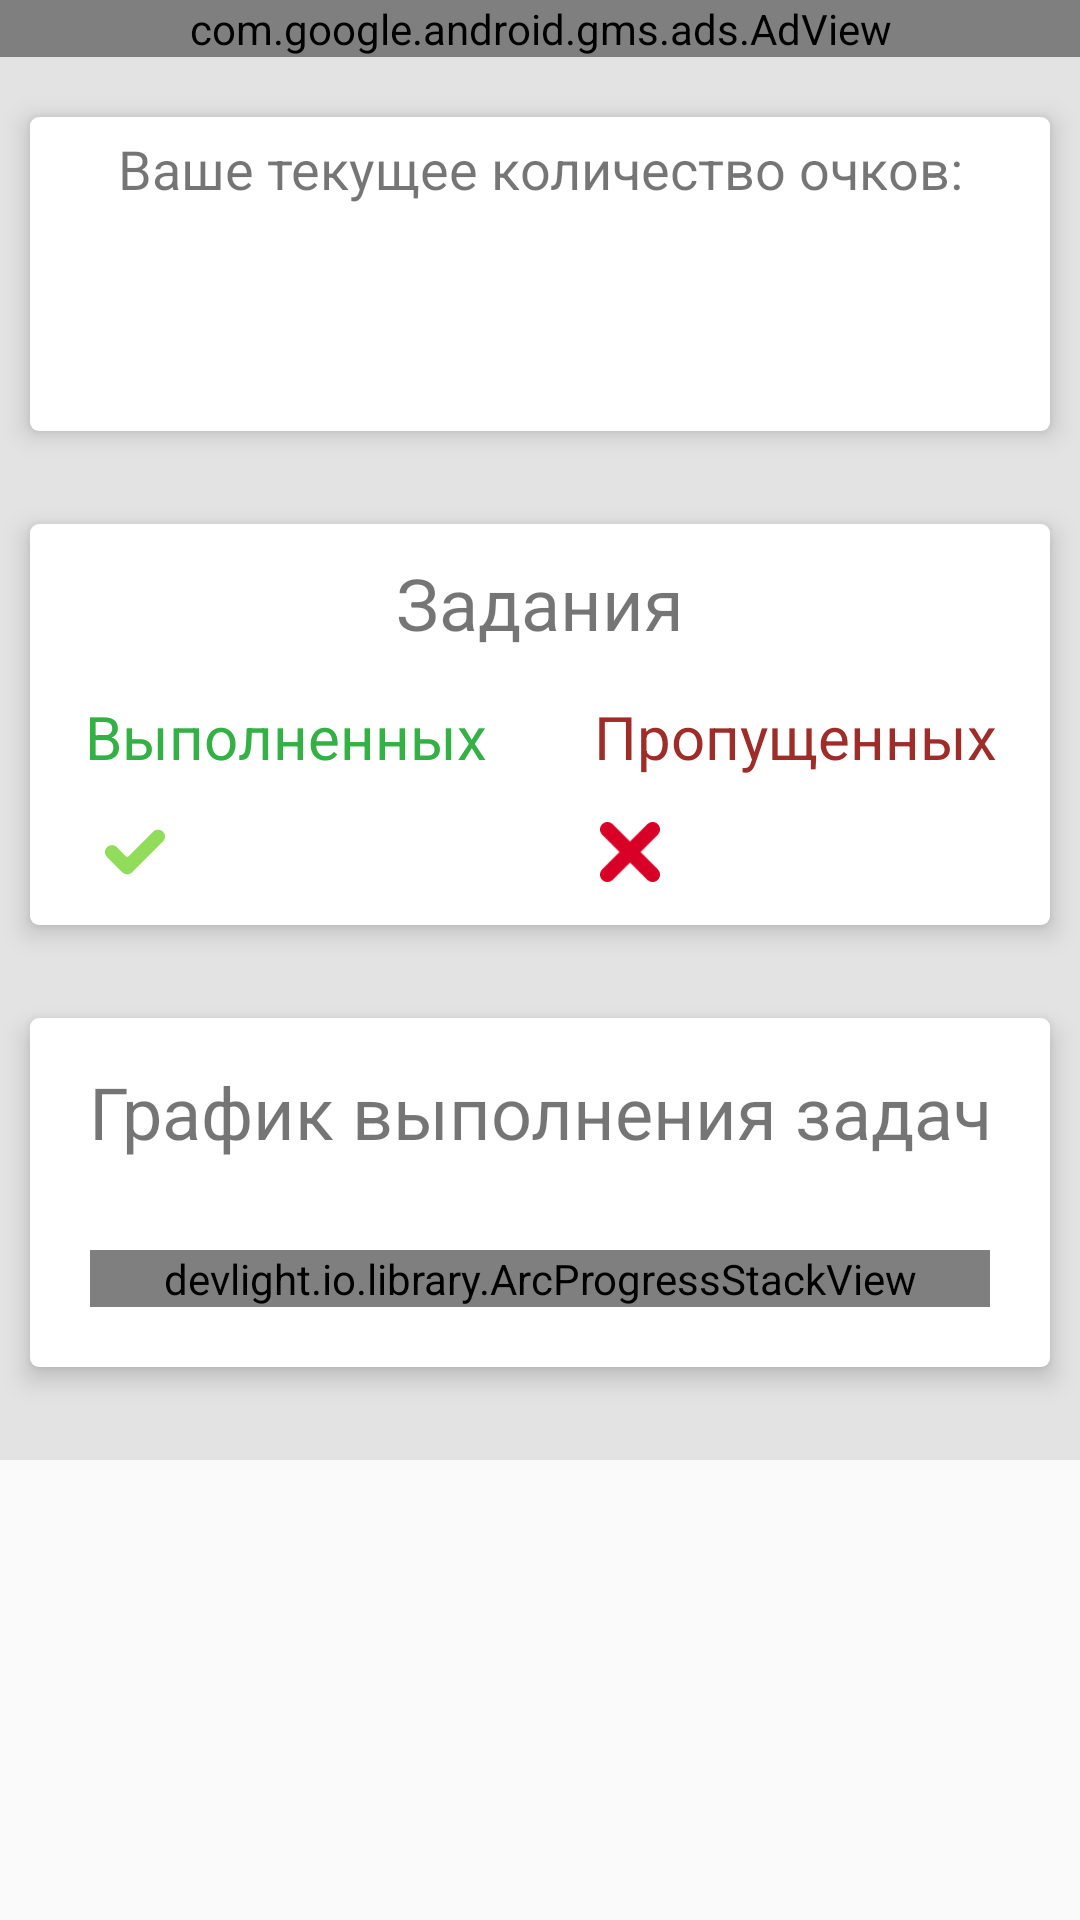

Point at icon controls on the screen. Image size 1080 x 1920, points as [x,y].
check mark: [135,852]
cross: [630,852]
